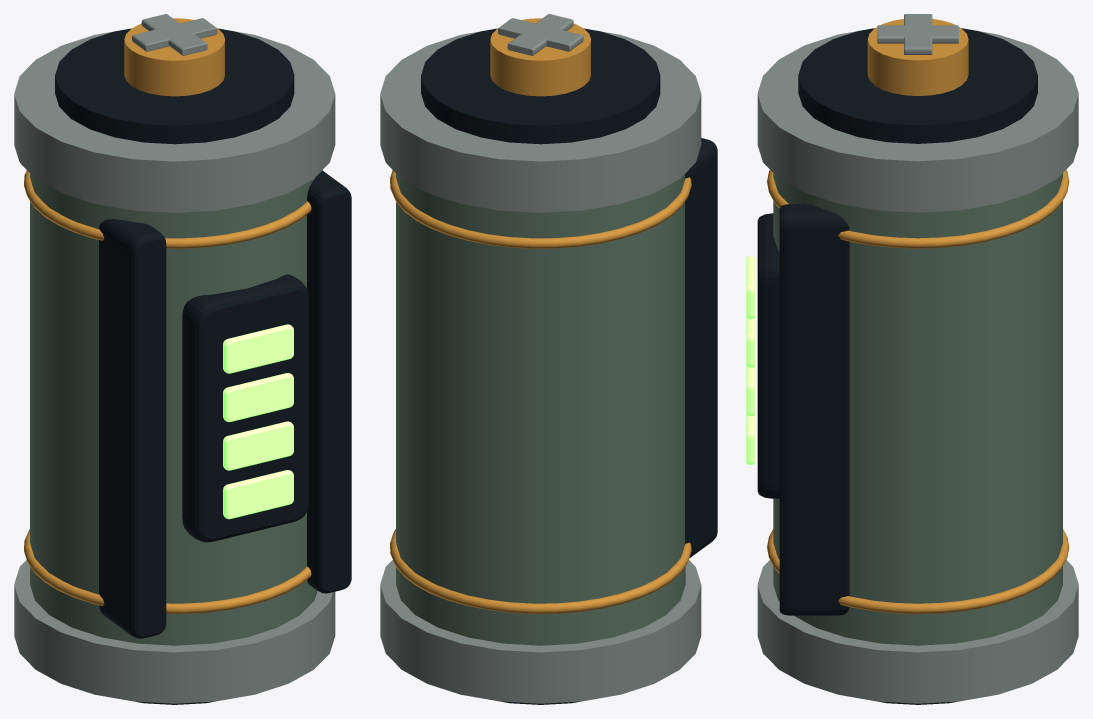
The model's file is cell.glb.
3 renders of one model, left to right at view 1: azimuth 30°, elevation 25°; view 2: azimuth 150°, elevation 25°; view 3: azimuth 270°, elevation 25°, orthographic.
Visible parts, largest first — view 1: Energy cartridge, Terminal collar (×2), Protective rib (×2), Charge window bezel, Insulating cap, Charge indicator (×4), Identification ring (×2), Positive contact, Positive symbol, Positive symbol cross; view 2: Energy cartridge, Terminal collar (×2), Insulating cap, Protective rib, Identification ring (×2), Positive contact, Positive symbol, Positive symbol cross; view 3: Energy cartridge, Terminal collar (×2), Protective rib, Insulating cap, Charge window bezel, Identification ring (×2), Positive contact, Positive symbol cross, Positive symbol, Charge indicator.
Boxes of the visible parts, bbox=[...] form: Energy cartridge: bbox=[30, 173, 317, 645]; Terminal collar (×2): bbox=[14, 31, 335, 703]; Protective rib (×2): bbox=[99, 170, 351, 638]; Charge window bezel: bbox=[182, 274, 308, 542]; Insulating cap: bbox=[55, 28, 294, 144]; Charge indicator (×4): bbox=[223, 324, 293, 519]; Identification ring (×2): bbox=[24, 170, 322, 613]; Positive contact: bbox=[124, 18, 224, 96]; Positive symbol: bbox=[132, 18, 217, 51]; Positive symbol cross: bbox=[141, 14, 207, 55]; Energy cartridge: bbox=[396, 173, 685, 645]; Terminal collar (×2): bbox=[380, 31, 701, 703]; Insulating cap: bbox=[421, 28, 660, 144]; Protective rib: bbox=[685, 138, 717, 558]; Identification ring (×2): bbox=[390, 170, 691, 613]; Positive contact: bbox=[490, 18, 590, 96]; Positive symbol: bbox=[498, 18, 583, 51]; Positive symbol cross: bbox=[507, 14, 573, 55]; Energy cartridge: bbox=[773, 173, 1062, 645]; Terminal collar (×2): bbox=[757, 31, 1078, 703]; Protective rib: bbox=[779, 204, 849, 615]; Insulating cap: bbox=[798, 28, 1037, 143]; Charge window bezel: bbox=[757, 213, 779, 498]; Identification ring (×2): bbox=[767, 169, 1069, 614]; Positive contact: bbox=[867, 19, 968, 95]; Positive symbol cross: bbox=[877, 25, 958, 43]; Positive symbol: bbox=[904, 14, 932, 54]; Charge indicator: bbox=[746, 255, 754, 319].
Size of the model in its own units: 0.51 by 1.09 by 0.528.
